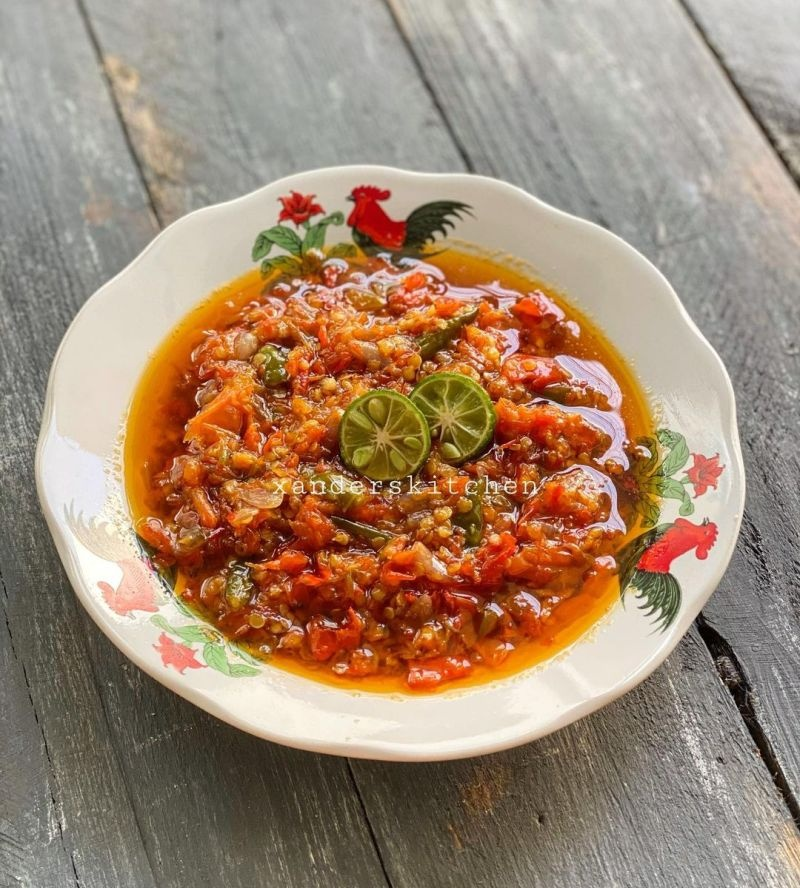sambal: (148, 260, 629, 682)
